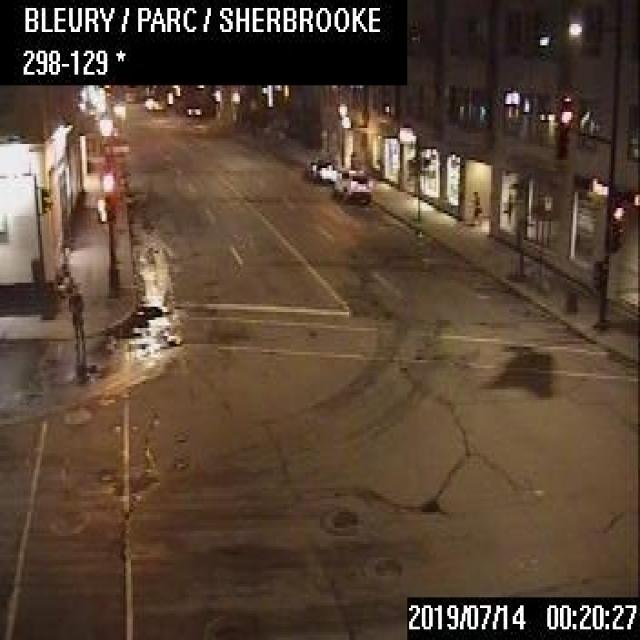pedestrian: (66, 280, 84, 350), (470, 189, 480, 223)
vehicle: (332, 167, 370, 200), (304, 153, 334, 181)
